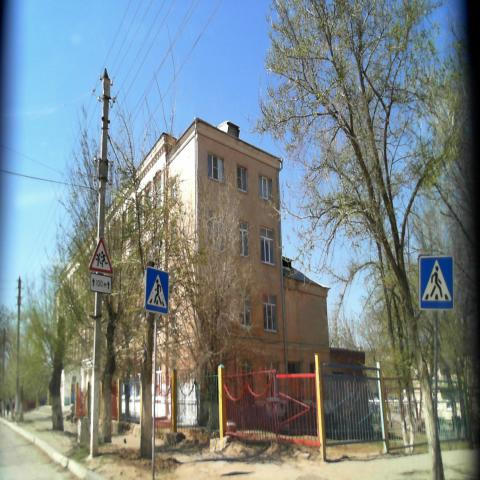1_23: (89, 234, 113, 273)
5_19_1: (418, 255, 454, 308), (145, 267, 169, 313)
